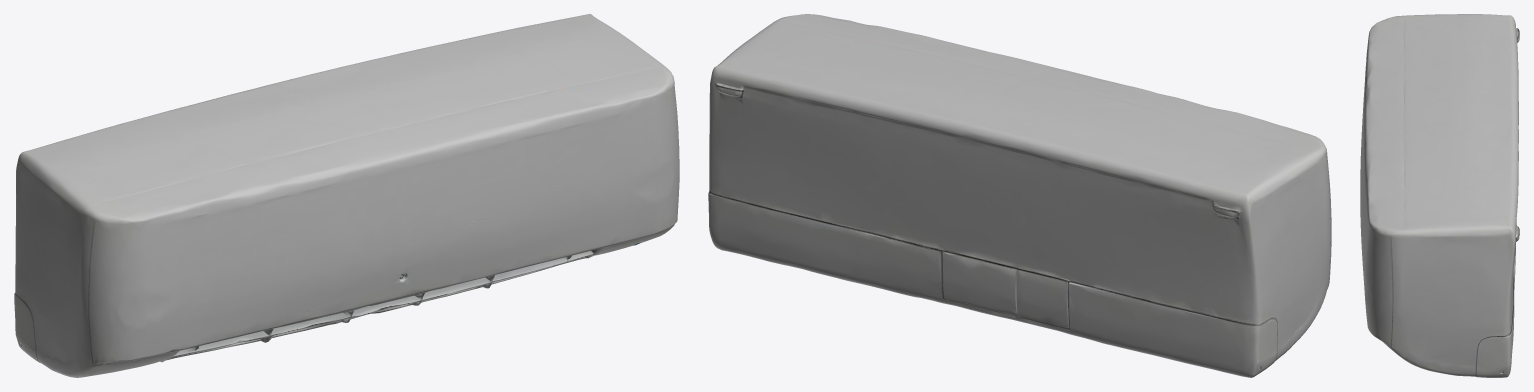
3 renders of one model, left to right at view 1: azimuth 30°, elevation 25°; view 2: azimuth 150°, elevation 25°; view 3: azimuth 270°, elevation 25°, orthographic. The views are drawn at different scales.
Parts seen in each view (by area): view 1: tripo_node_567f2db0-e8b3-4534-97e4-f1990475f23e; view 2: tripo_node_567f2db0-e8b3-4534-97e4-f1990475f23e; view 3: tripo_node_567f2db0-e8b3-4534-97e4-f1990475f23e.
Part boxes in pixels (x1,y1,x2,y2): tripo_node_567f2db0-e8b3-4534-97e4-f1990475f23e: (14, 14, 679, 377); tripo_node_567f2db0-e8b3-4534-97e4-f1990475f23e: (708, 14, 1331, 377); tripo_node_567f2db0-e8b3-4534-97e4-f1990475f23e: (1360, 14, 1519, 377).
Size of the model in its own units: 3.04 by 1 by 0.9234.
1 material, 1 textured.
